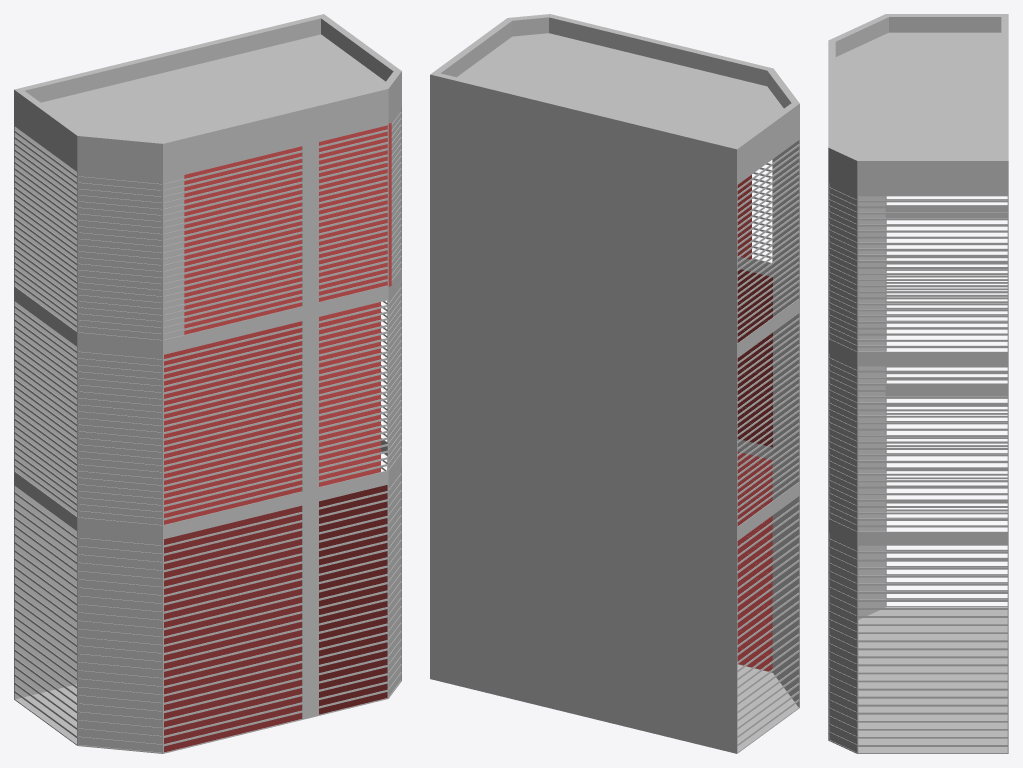
File: BuildingX_02.fbx
3 views of the same model, side by side, from view 1: azimuth 30°, elevation 25°; view 2: azimuth 150°, elevation 25°; view 3: azimuth 270°, elevation 25° (orthographic). The views are drawn at different scales.
Parts seen in each view (by area): view 1: Cube_1, 对象006, 对象004, 对象003, 对象005, 对象007; view 2: Cube_1, 对象006, 对象003, 对象004; view 3: Cube_1.
Part boxes in pixels (box(x1,y1,x2,y2)): Cube_1: box(14, 14, 401, 753); 对象006: box(164, 505, 301, 752); 对象004: box(184, 123, 391, 334); 对象003: box(164, 321, 301, 524); 对象005: box(319, 485, 387, 714); 对象007: box(319, 302, 380, 486); Cube_1: box(430, 14, 799, 753); 对象006: box(737, 451, 772, 672); 对象003: box(737, 269, 772, 447); 对象004: box(737, 175, 751, 259); Cube_1: box(828, 14, 1008, 753).
Bounding box in the file's own units: 610 × 1149 × 317.
